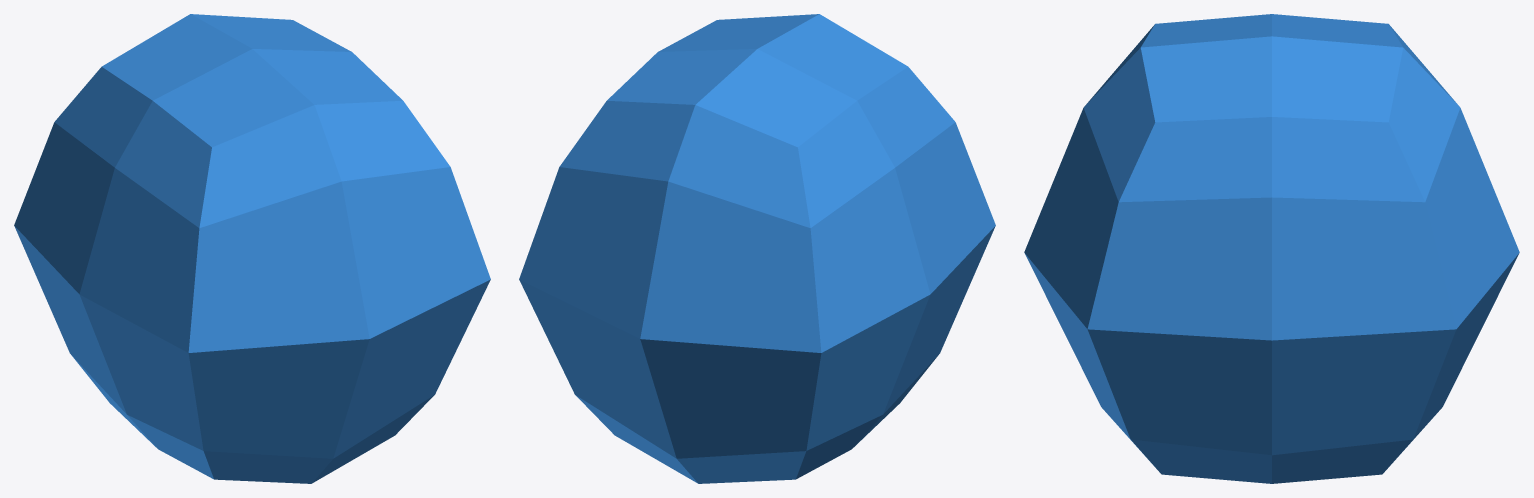
The model's file is gem3.glb.
3 renders of one model, left to right at view 1: azimuth 30°, elevation 25°; view 2: azimuth 150°, elevation 25°; view 3: azimuth 270°, elevation 25°, orthographic. The views are drawn at different scales.
Parts seen in each view (by area): view 1: Cube; view 2: Cube; view 3: Cube.
Boxes of the visible parts, x1,y1,x2,y2 form: Cube: [14, 14, 490, 483]; Cube: [519, 14, 995, 483]; Cube: [1024, 14, 1519, 483].
Bounding box in the file's own units: 34.63 × 38.46 × 40.63.
